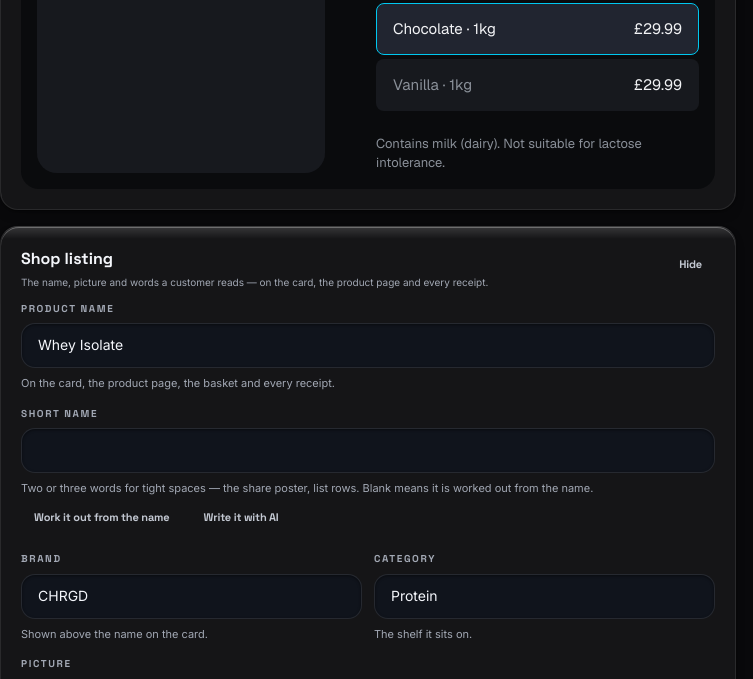
Test: the product page › saves only what was changed in the shop listing, and shows the product the server answers with
(page scrolled)
Replace the text in the field labelled "Product name" with "Whey Isolate 1kg": (368, 346) [21,323,715,368]
(page scrolled)
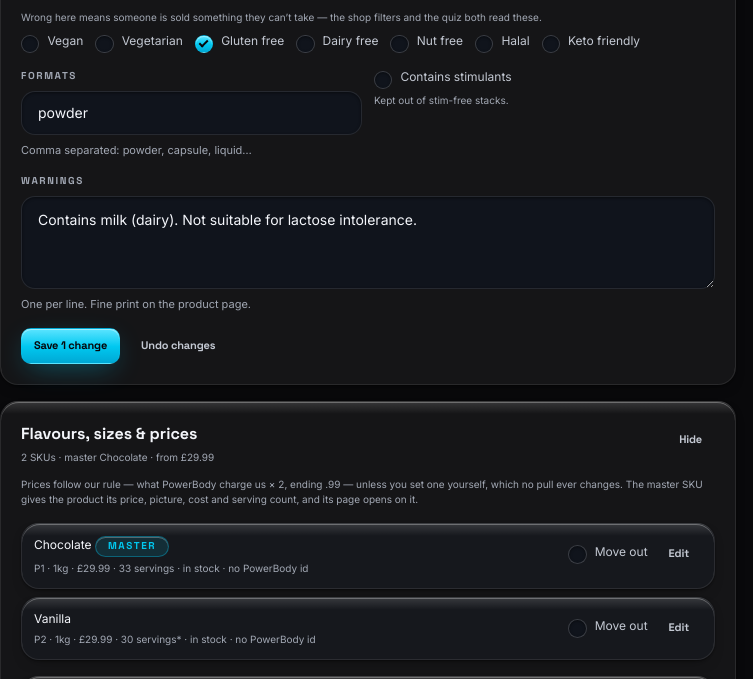
Click the button "Save 1 change": (71, 346) [21,328,120,364]
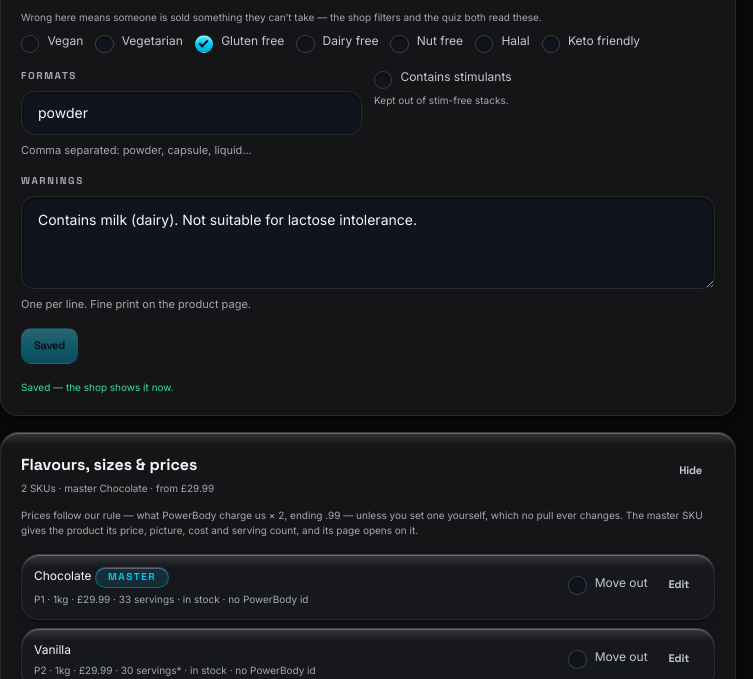
Result: the button "Saved" is disabled at [21,328,78,364]
